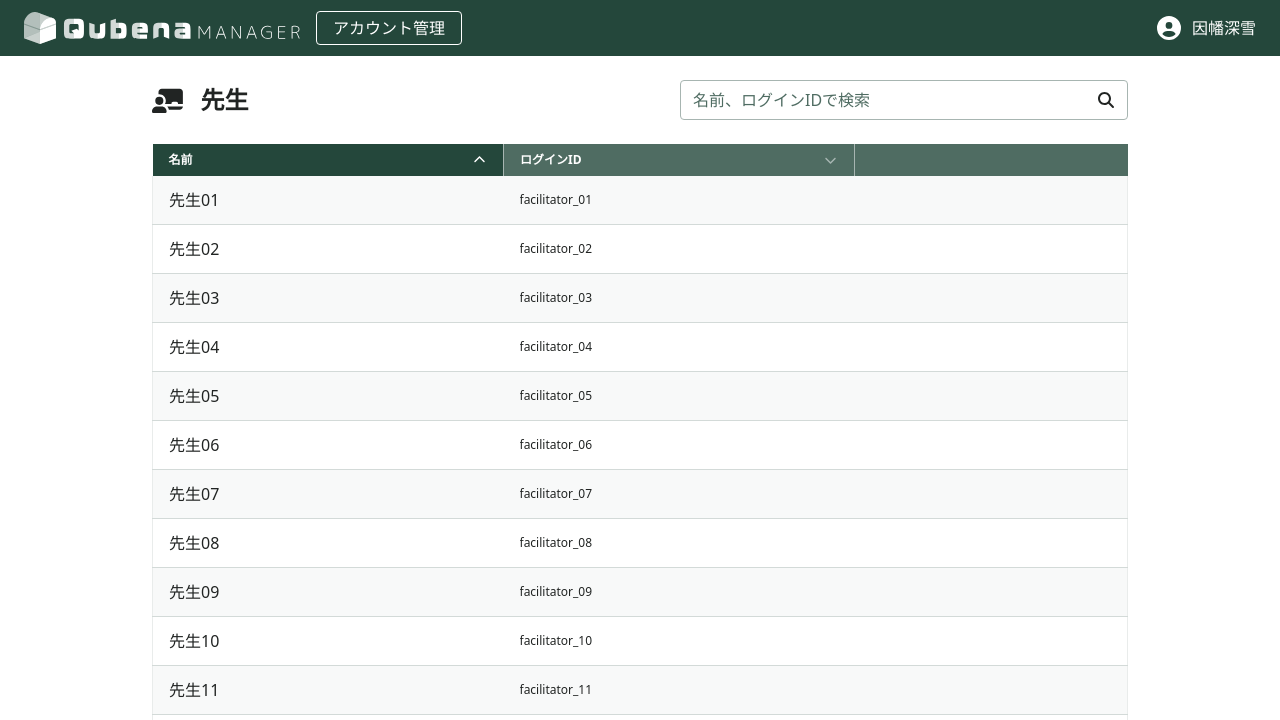
Scenario: FacilitatorListPage › 名前ヘッダのクリックで降順に並び替えできる
Check: the text "先生01" is shown, box [169,189,219,211]
Click the button with aria-label "名前で並び替え" at (181, 160), box [152,144,503,176]
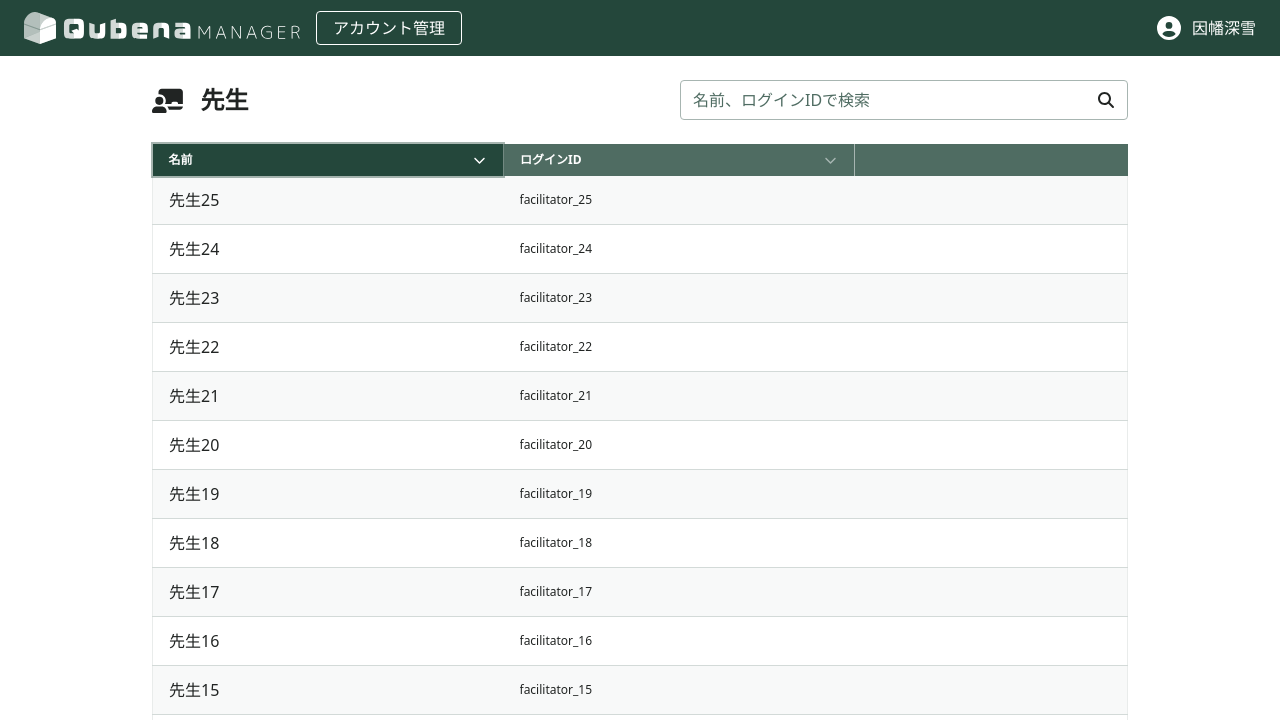
Check: the text "先生25" is shown, box [169,189,219,211]
